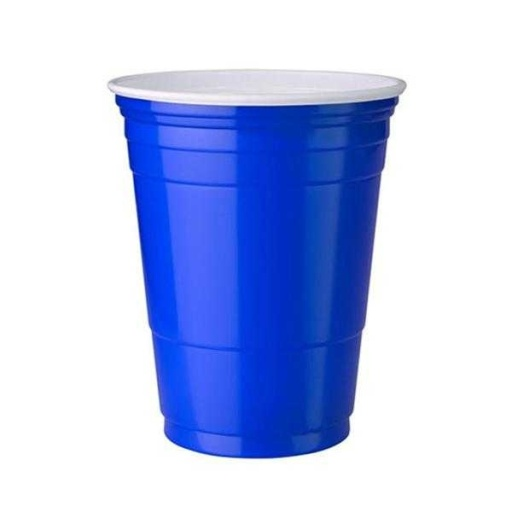cup: (107, 68, 405, 459)
